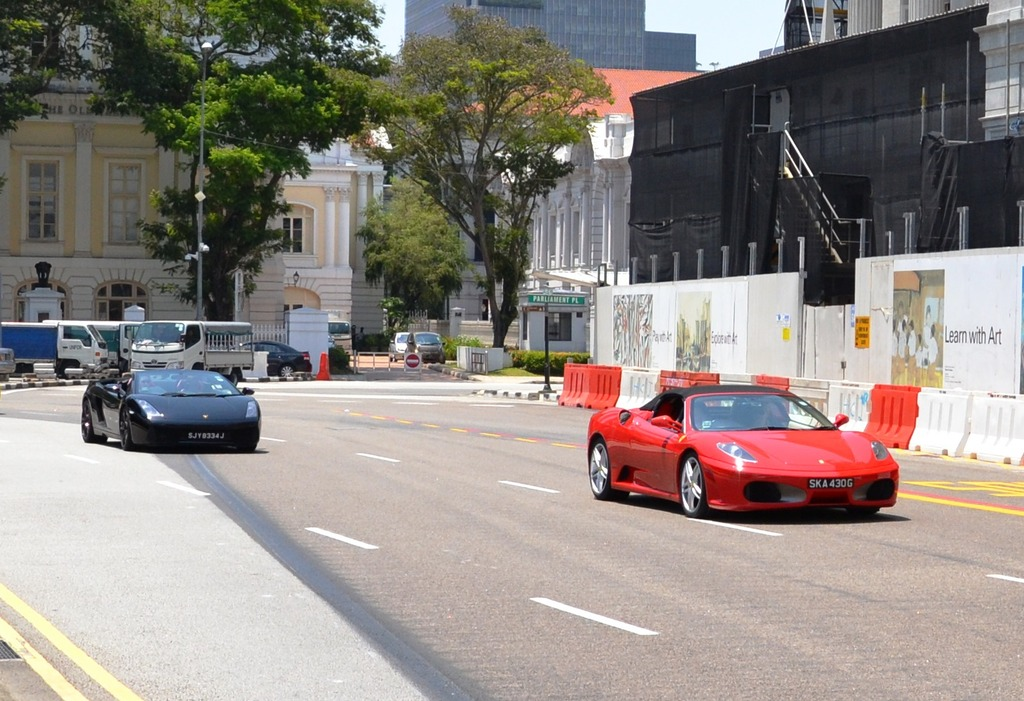Car: (579, 373, 900, 524), (76, 367, 265, 454), (236, 341, 312, 376), (406, 328, 446, 362), (388, 331, 409, 357)
